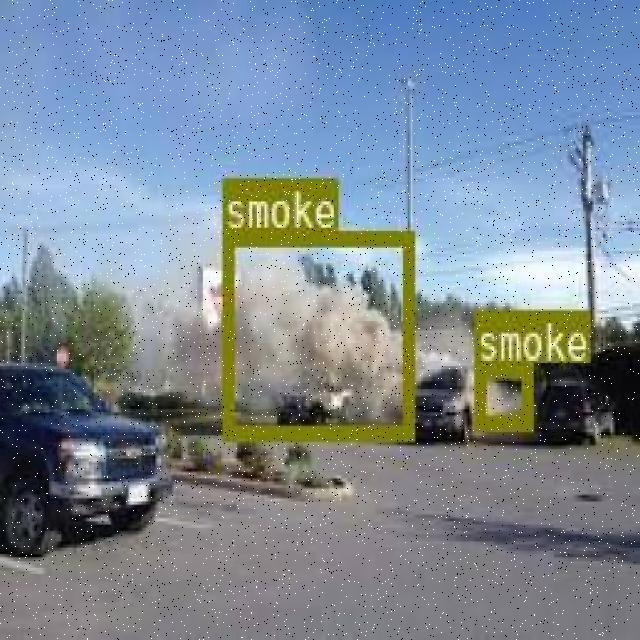Smoke: (254, 226, 378, 427), (472, 362, 531, 427)
